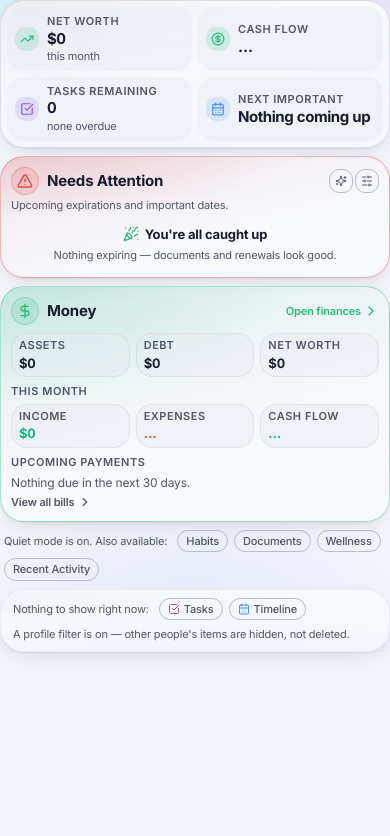
F-44 Generate AI advice › shows a loading state, then the four suggestions inside the Needs Attention card
This screenshot has width=390, height=836.
Later steps or results of the test are not shown.
Expected: the element with test id "exec-card-attention" is shown, [0, 156, 389, 278]
Click the button with test id "exec-recommendations-generate" at (341, 180), box [329, 168, 353, 192]
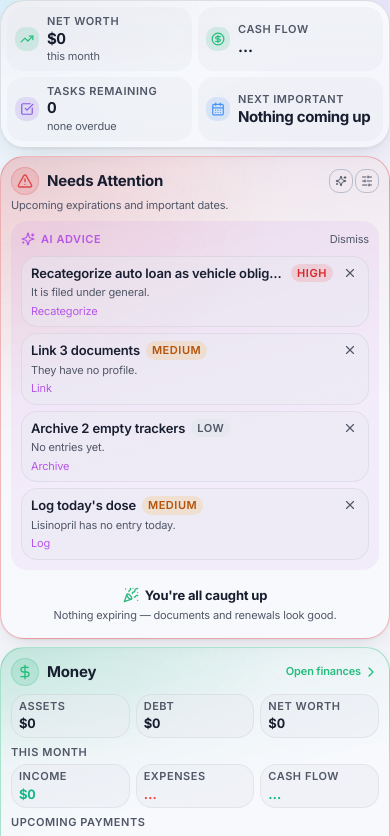
Now the element with test id "exec-card-recommendations" shows "Recategorize auto loan as vehicle obligation", box [31, 265, 300, 281]
Now the element with test id "exec-card-recommendations" shows "Link 3 documents", box [31, 342, 140, 358]
Now the element with test id "exec-card-recommendations" shows "Archive 2 empty trackers", box [31, 420, 185, 436]
